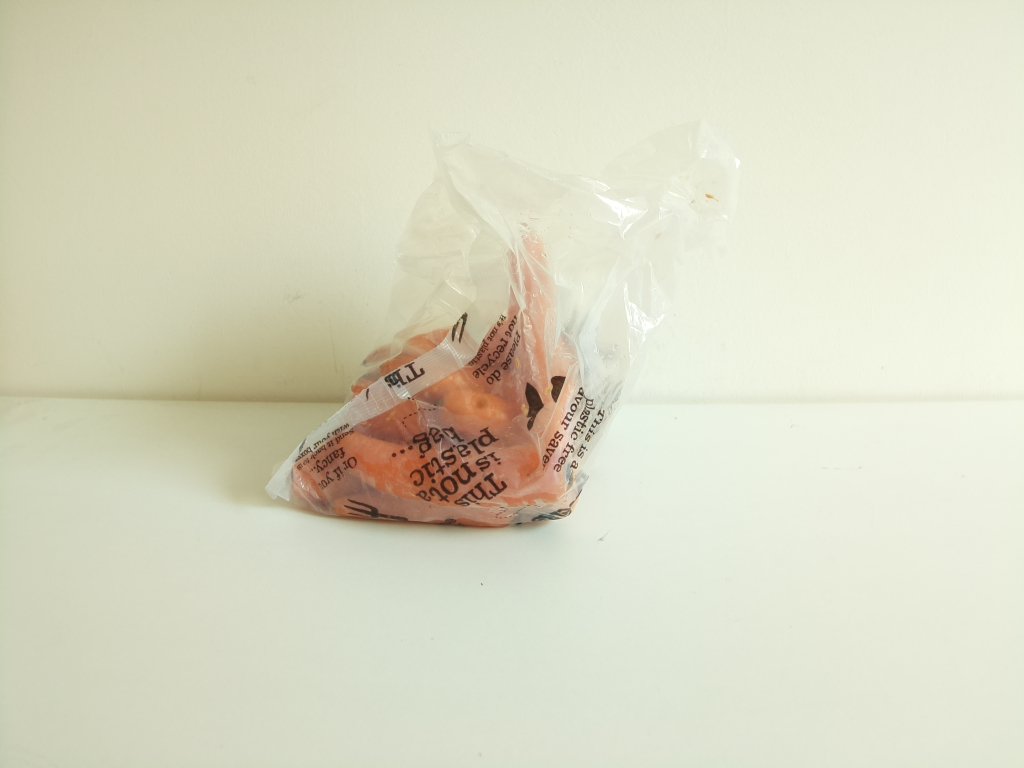carrot: (291, 219, 591, 528)
